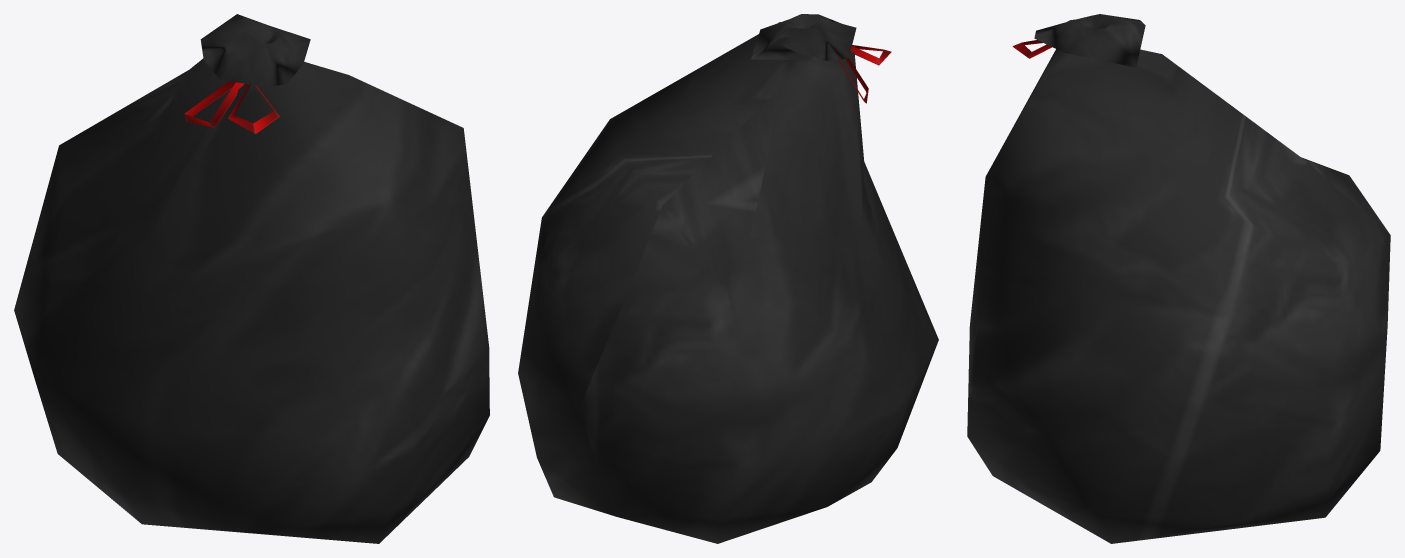
Rendered from trashbag.obj.
The picture shows the model from 3 angles, left to right: view 1: azimuth 30°, elevation 25°; view 2: azimuth 150°, elevation 25°; view 3: azimuth 270°, elevation 25°; orthographic projection. The views are drawn at different scales.
Bounding box in the file's own units: 1.89 × 2.18 × 1.87.
